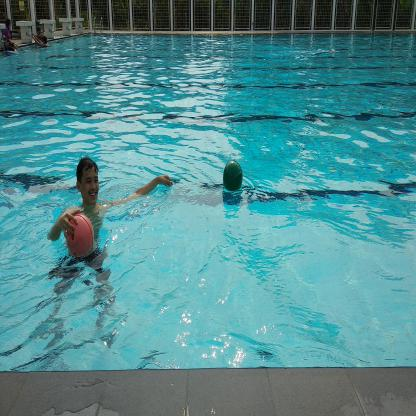green_buoy: (220, 160, 244, 193)
red_buoy: (64, 213, 94, 261)
